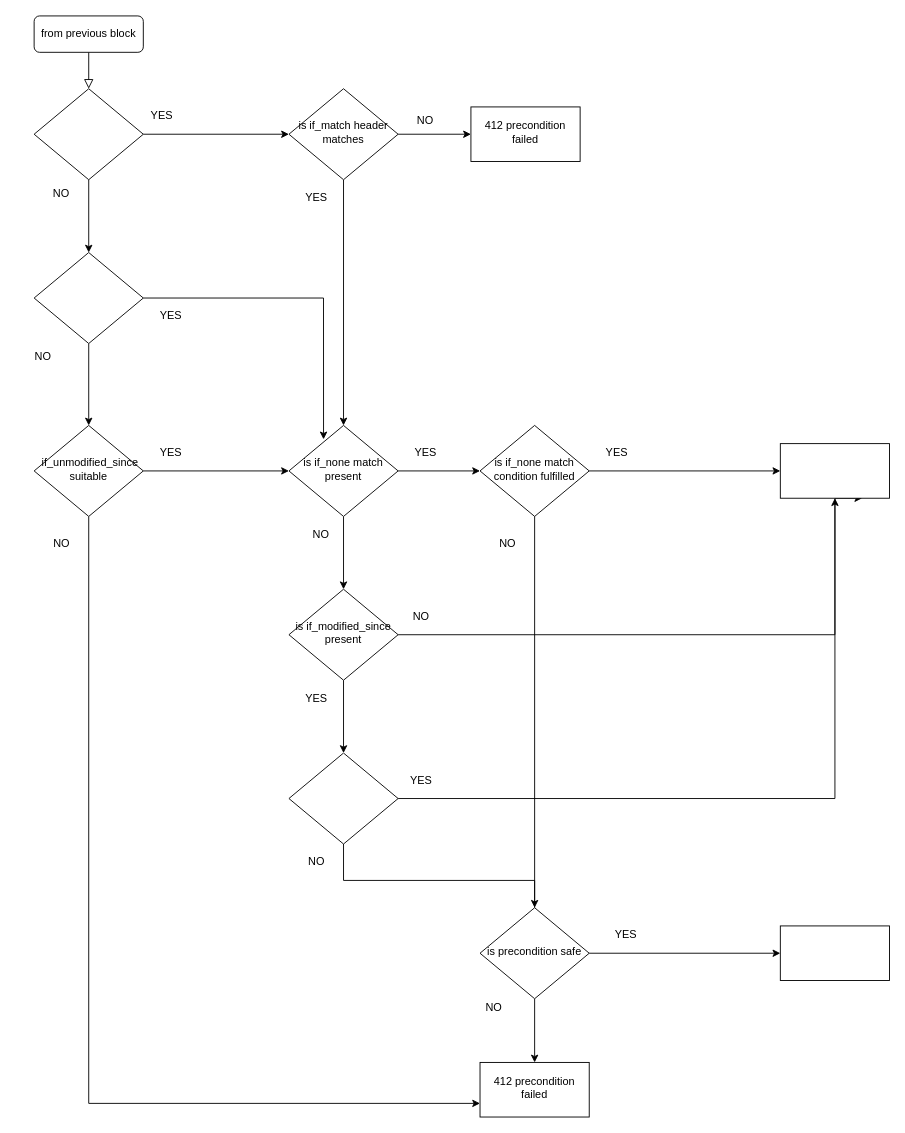
Some shapes in this 905 by 1133 pixel diagram are drawn without their labels. Each missing label, with the centre of its shape:
"304 not modified" goes at point 834,953.
"is if_match header present" goes at point 88,134.
"is if_modified_since condition satisfied" goes at point 343,798.
"is if_unmodified_since present" goes at point 88,298.
"to next block" goes at point 834,470.
